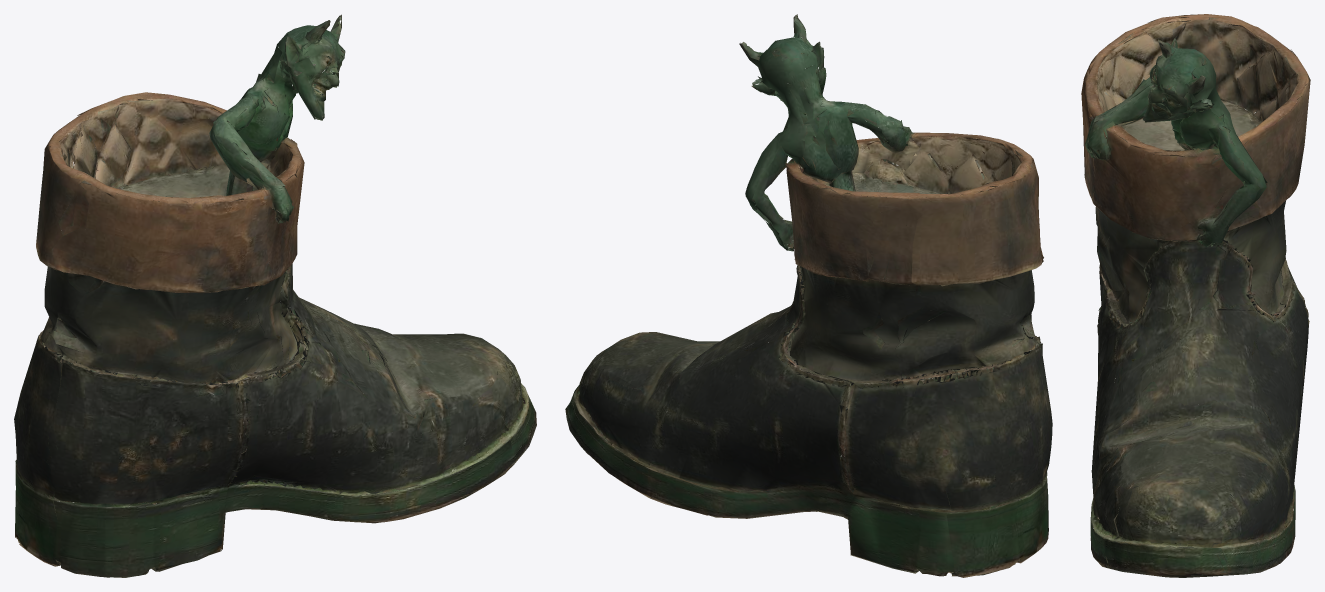
The model's file is effigy-boot.glb.
3 views of the same model, side by side, from view 1: azimuth 30°, elevation 25°; view 2: azimuth 150°, elevation 25°; view 3: azimuth 270°, elevation 25° (orthographic). The views are drawn at different scales.
Parts seen in each view (by area): view 1: effigy-boot_mesh; view 2: effigy-boot_mesh; view 3: effigy-boot_mesh.
Part boxes in pixels (left/top/right/bottom): effigy-boot_mesh: left=14, top=14, right=536, bottom=577; effigy-boot_mesh: left=565, top=14, right=1052, bottom=577; effigy-boot_mesh: left=1081, top=14, right=1310, bottom=577.
Bounding box in the file's own units: 1.9 × 1.81 × 0.7834.
Materials: 1 (1 with a texture image).
